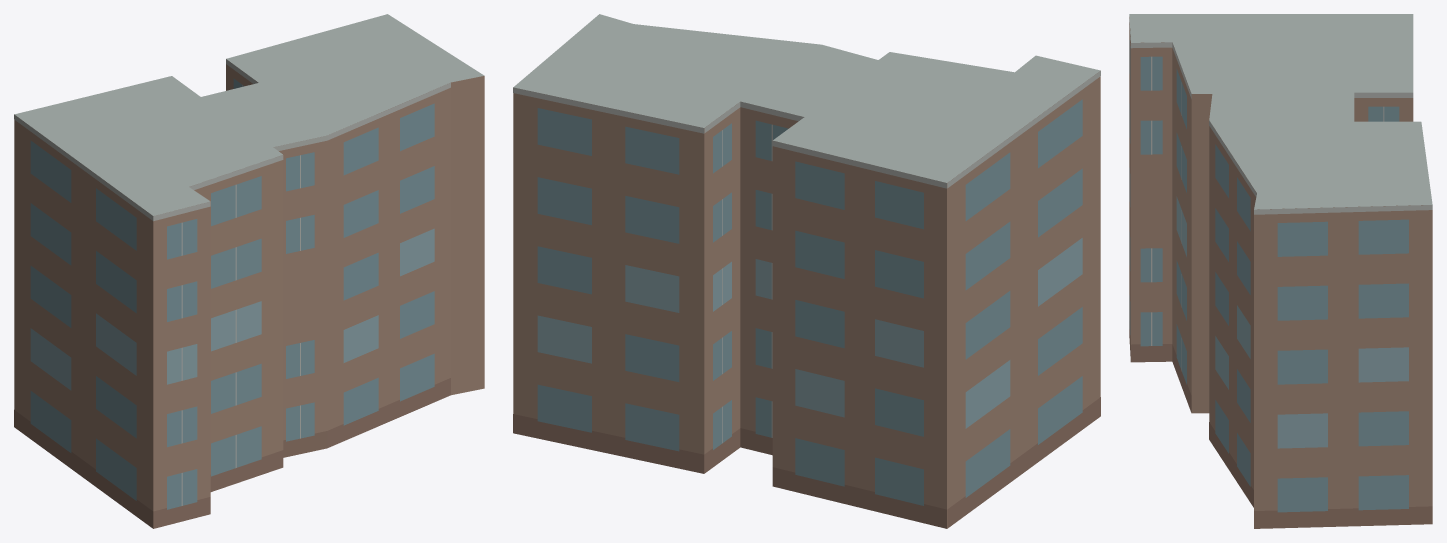
File: survey-upis-32489155.glb
3 views of the same model, side by side, from view 1: azimuth 30°, elevation 25°; view 2: azimuth 150°, elevation 25°; view 3: azimuth 270°, elevation 25° (orthographic). The views are drawn at different scales.
Parts seen in each view (by area): view 1: survey-upis-32489155.tmp; view 2: survey-upis-32489155.tmp; view 3: survey-upis-32489155.tmp.
Boxes of the visible parts, x1,y1,x2,y2 form: survey-upis-32489155.tmp: (14,14,484,528); survey-upis-32489155.tmp: (513,14,1100,528); survey-upis-32489155.tmp: (1129,14,1432,528).
Bounding box in the file's own units: 19.58 × 14.9 × 12.84.
